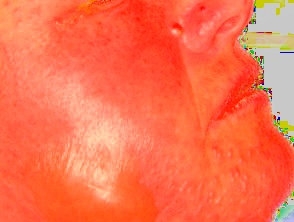SJS-TEN: (8, 129, 290, 222)
